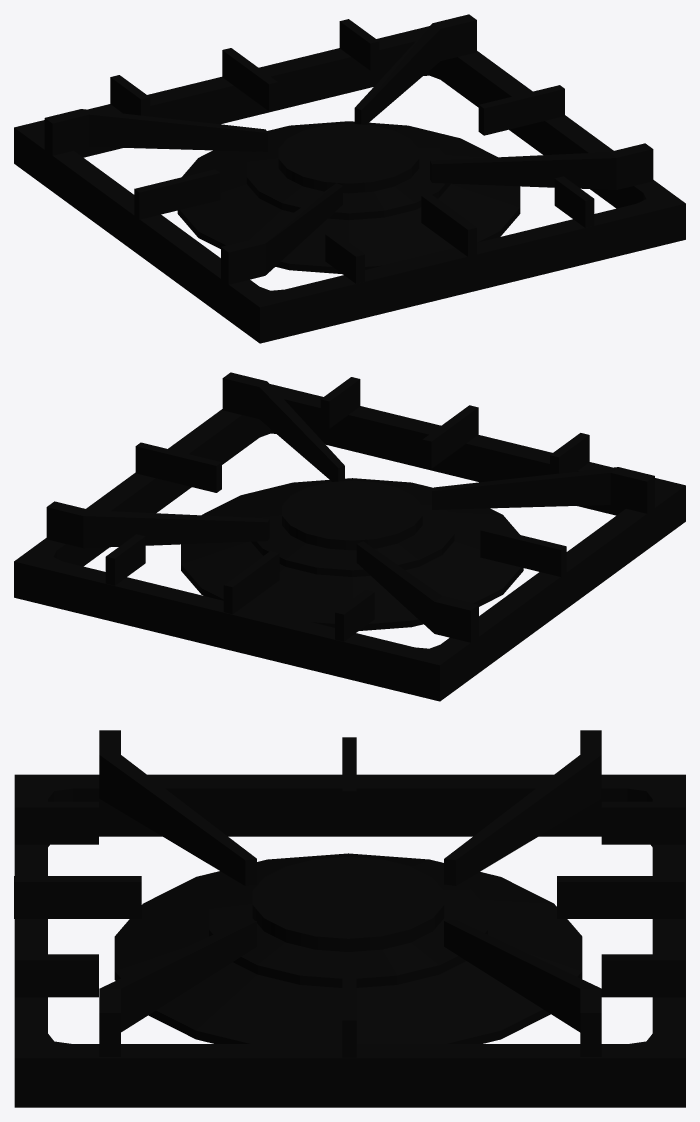
The model's file is Kitchen_Stove.FBX.
The picture shows the model from 3 angles, top to bottom: view 1: azimuth 30°, elevation 25°; view 2: azimuth 150°, elevation 25°; view 3: azimuth 270°, elevation 25°; orthographic projection. The views are drawn at different scales.
Parts seen in each view (by area): view 1: Kitchen_Stove; view 2: Kitchen_Stove; view 3: Kitchen_Stove.
Part boxes in pixels (bbox=[...]): Kitchen_Stove: bbox=[14, 14, 685, 343]; Kitchen_Stove: bbox=[14, 372, 685, 701]; Kitchen_Stove: bbox=[14, 730, 685, 1107].
Size of the model in its own units: 0.2436 by 0.0373 by 0.2436.
